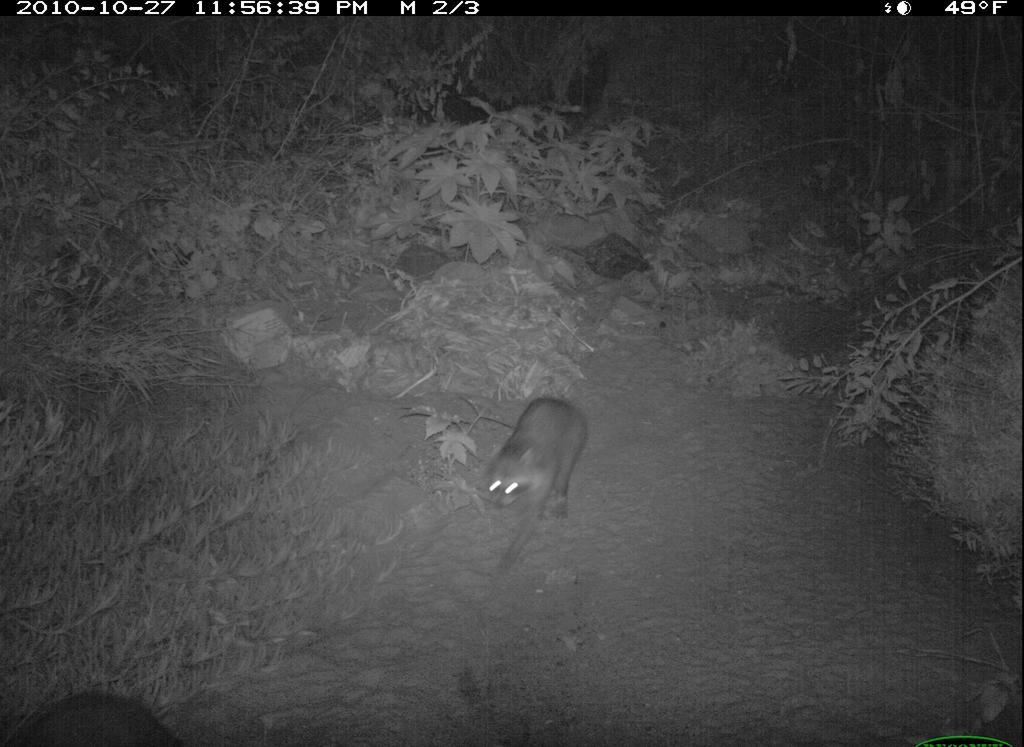raccoon: (470, 381, 597, 582)
